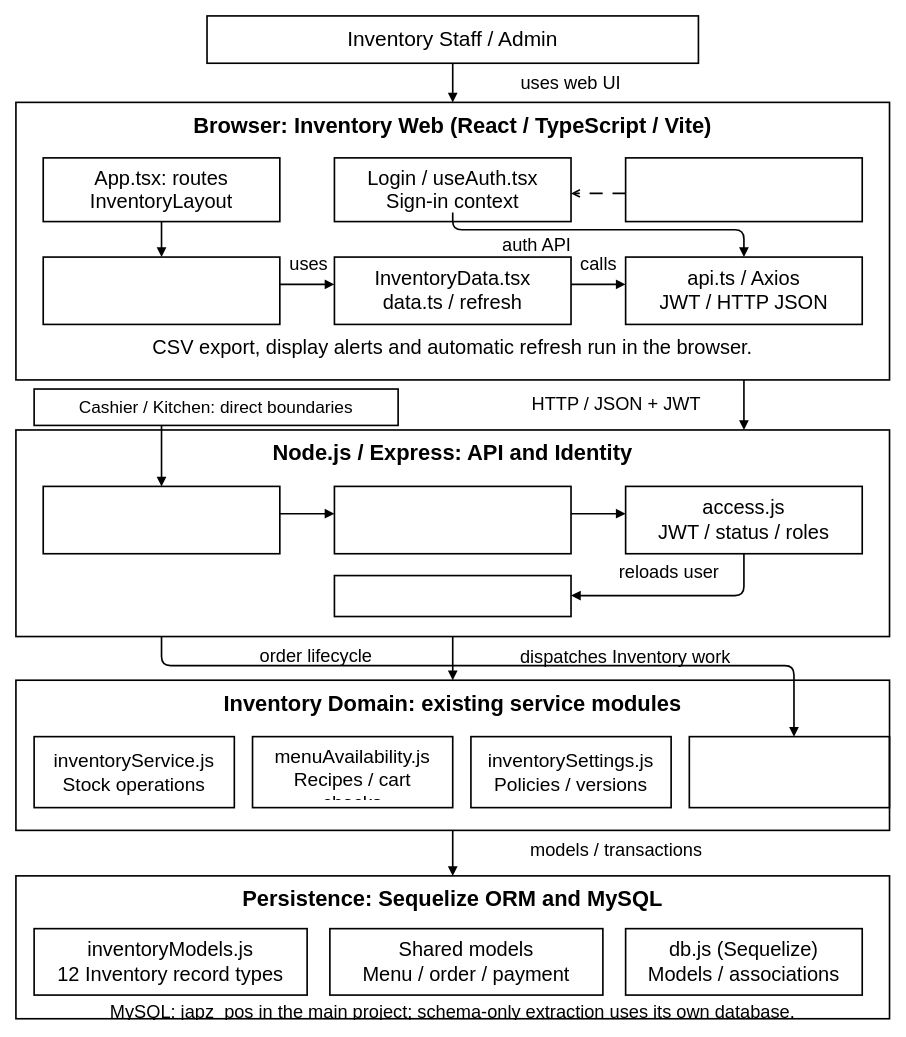
Some shapes in this 906 by 1037 pixel diagram are drawn without their labels. The box of each missing label's shape, as (x1, y1, x2, y2) in pixels:
index.js / shared routes Express runtime: (42, 485, 280, 554)
Inventory screens MenuStock / controls: (42, 256, 280, 325)
inventory.js /api/inventory: (333, 485, 571, 554)
inventoryOrders.js Order stock lifecycle: (688, 735, 890, 808)
ProtectedRoute.tsx UI guard: (624, 157, 863, 222)
User: shared identity: (333, 574, 571, 617)
